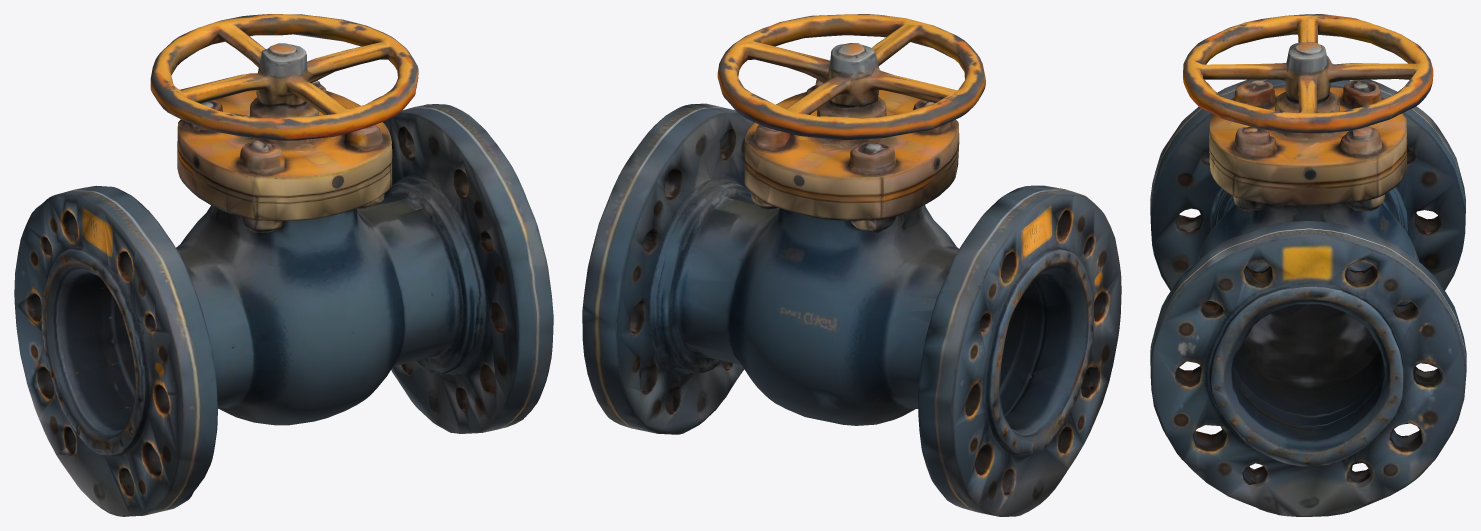
Rendered from industrial-valve.glb.
The picture shows the model from 3 angles, left to right: view 1: azimuth 30°, elevation 25°; view 2: azimuth 150°, elevation 25°; view 3: azimuth 270°, elevation 25°; orthographic projection. The views are drawn at different scales.
Bounding box in the file's own units: 1.95 × 2 × 1.48.
Materials: 1 (1 with a texture image).
